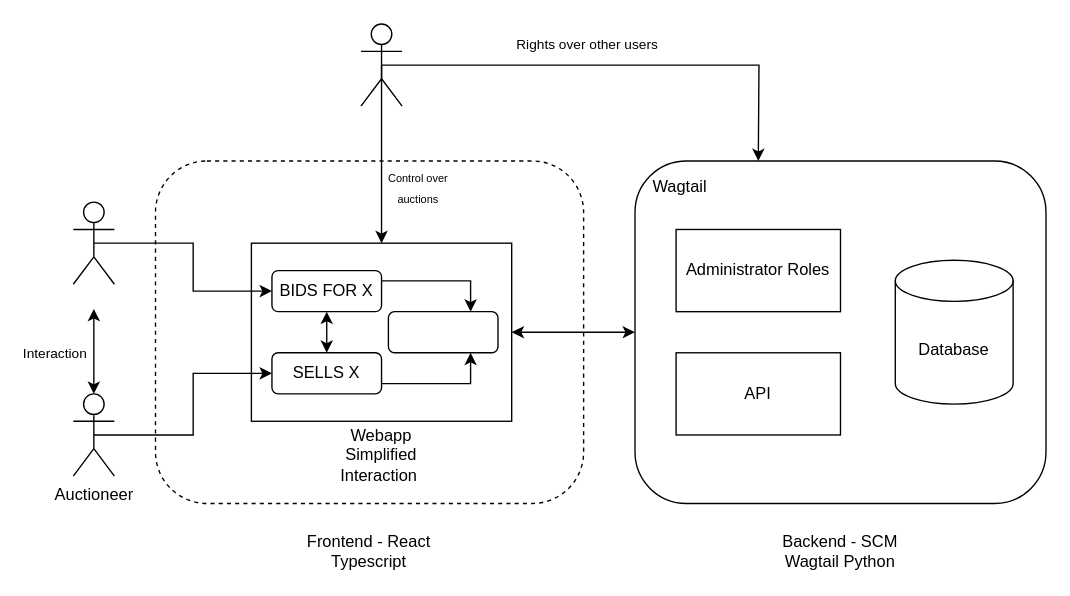
Some shapes in this 1070 by 596 pixel diagram are drawn without their labels. Here are the shapes that lost their labels. From the top down, the centre of each, then its label:
At point 381,64: "Administrator".
At point 93,242: "Bidder".
At point 442,331: "AUCTION RESULT".
